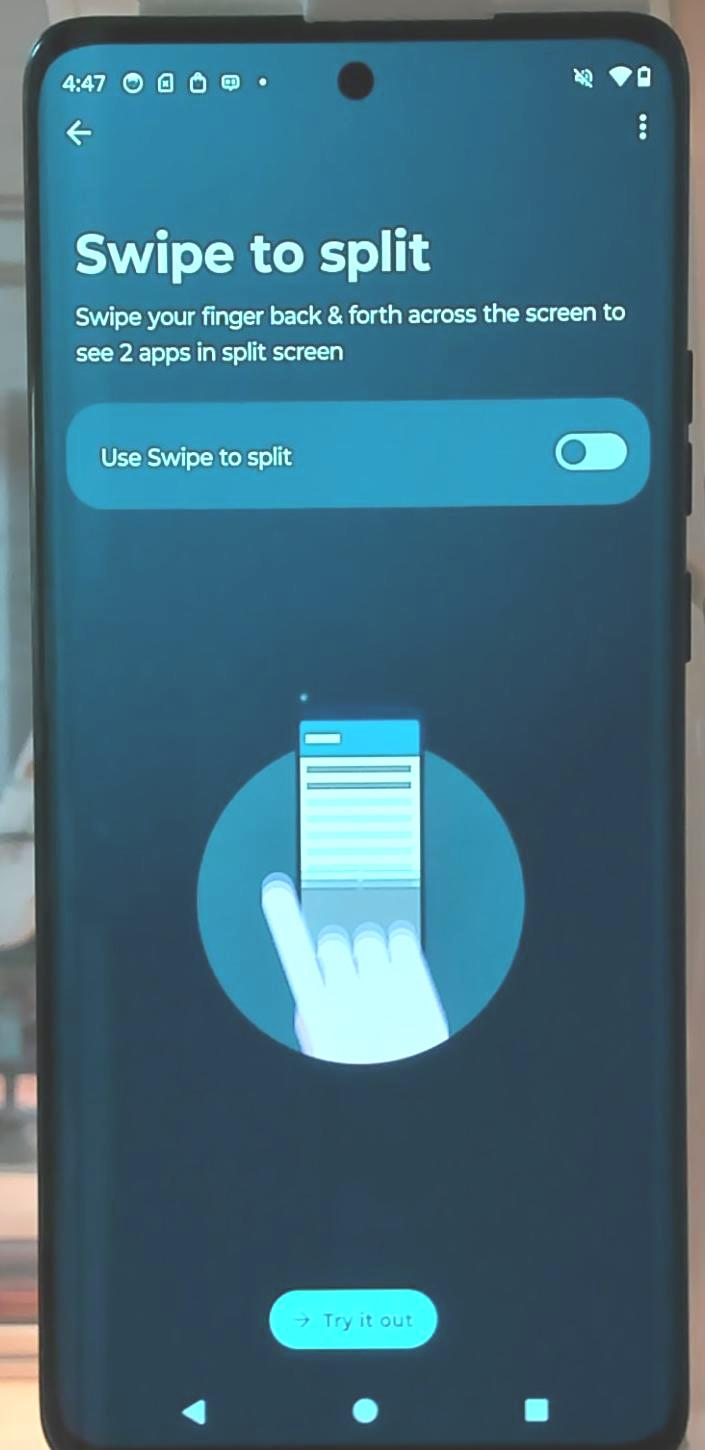Checkbox: (86, 423, 638, 485)
